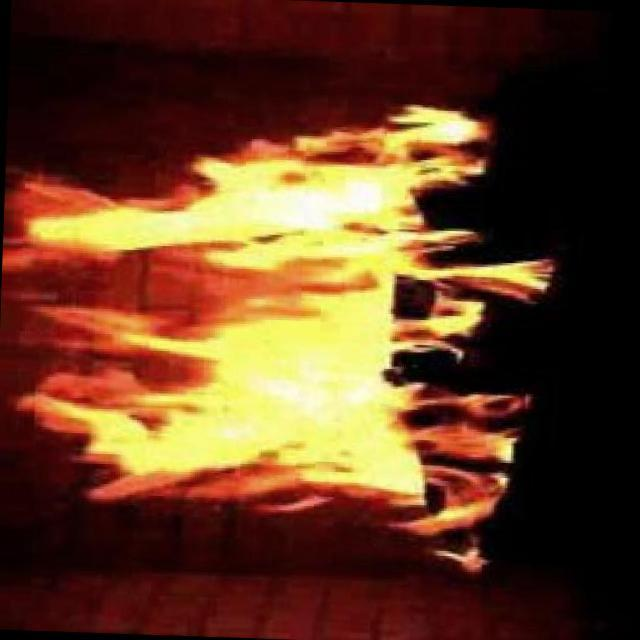Fire: (55, 110, 471, 522)
